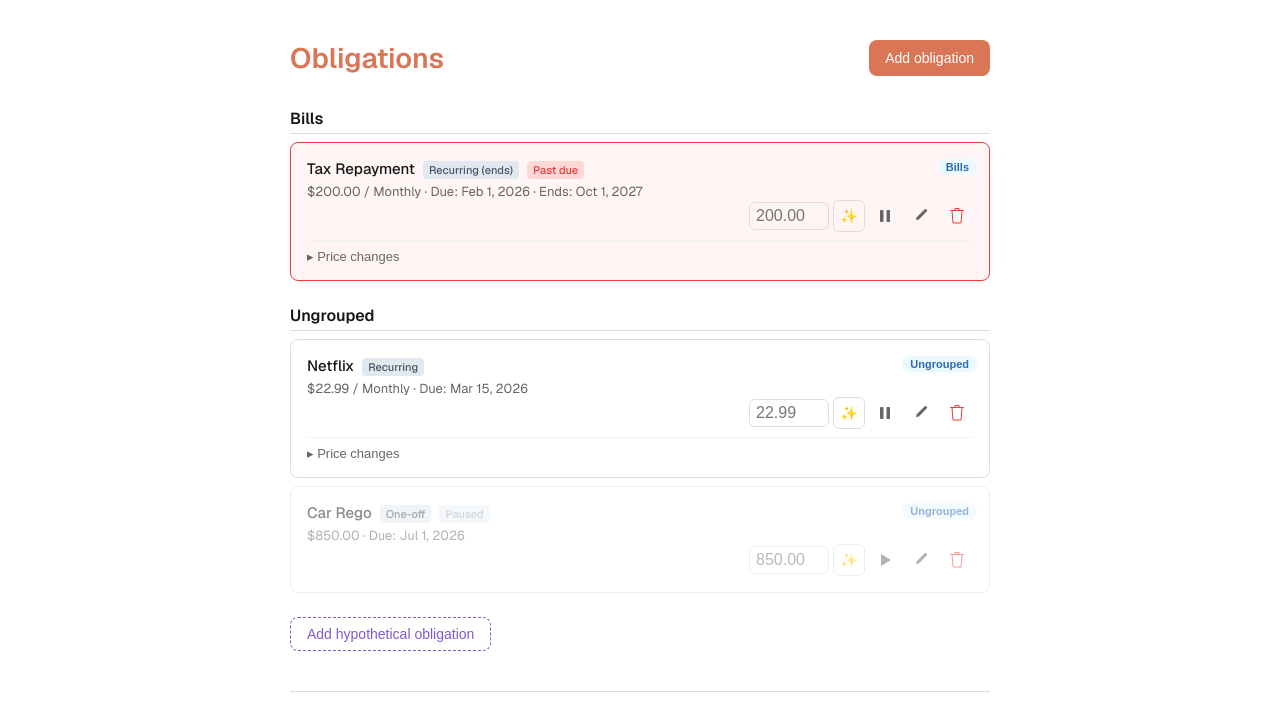
ObligationsPage › deletes an obligation after confirmation
This screenshot has width=1280, height=717.
Expected: the text "Netflix" is shown, [307,356,354,375]
Click the button named "Delete Netflix" at (957, 413), box [941,397,973,429]
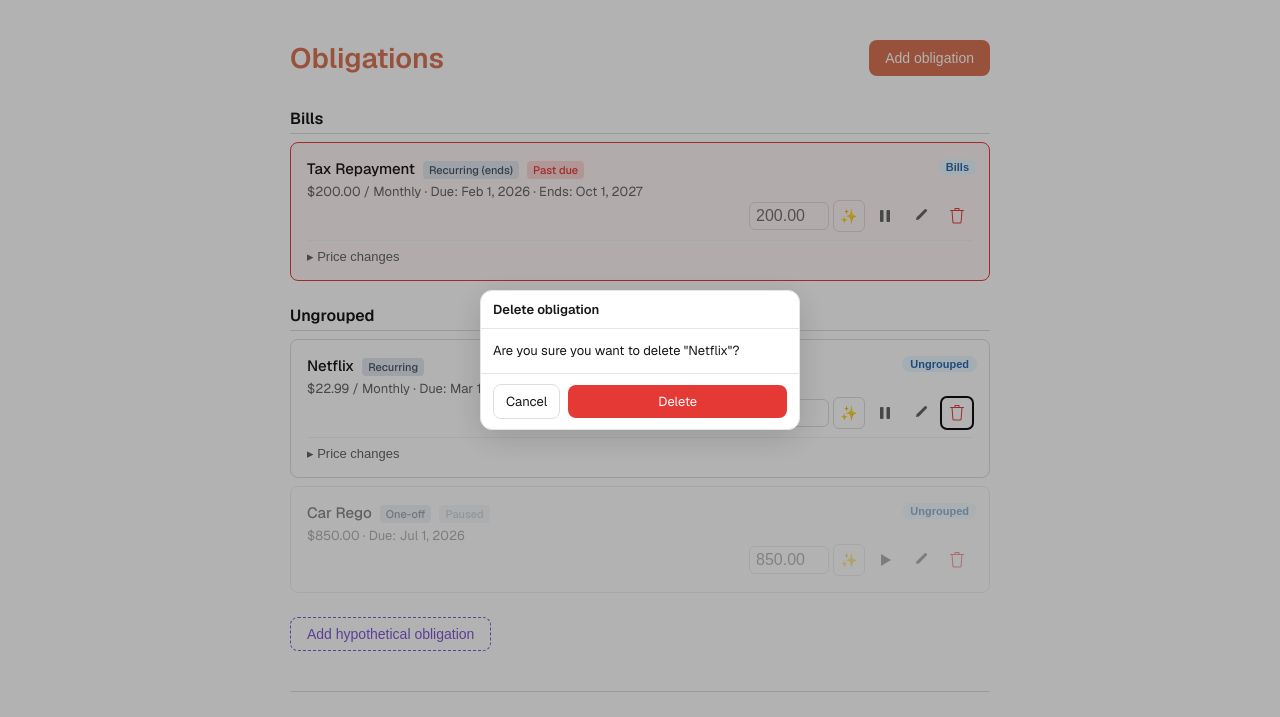
Expected: the dialog with test id "confirm-dialog" is shown, [480,290,800,430]
Expected: the text with test id "confirm-dialog-message" reads "Are you sure you want to delete \"Netflix\"?", [493,342,740,359]
Click the button with test id "confirm-dialog-confirm" at (678, 401), box [568,385,787,418]
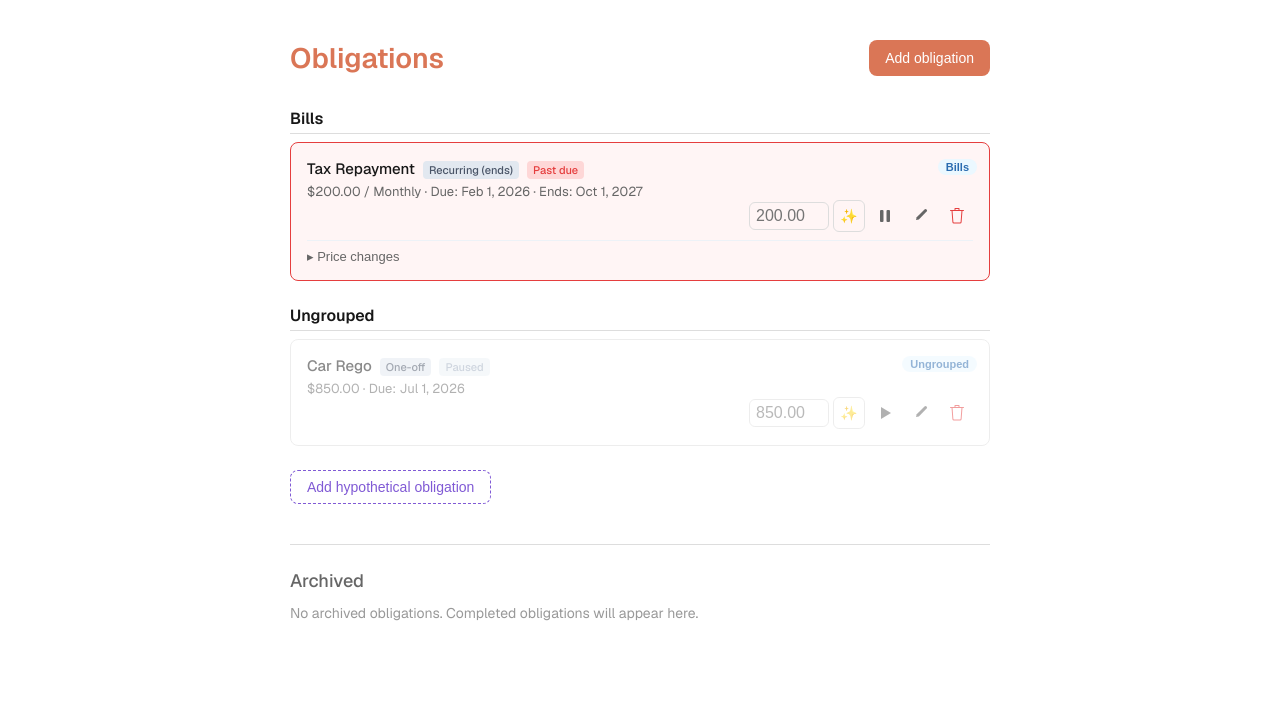
Expected: the text "Tax Repayment" is shown, [307,159,415,178]
Expected: the text "Netflix" is gone
